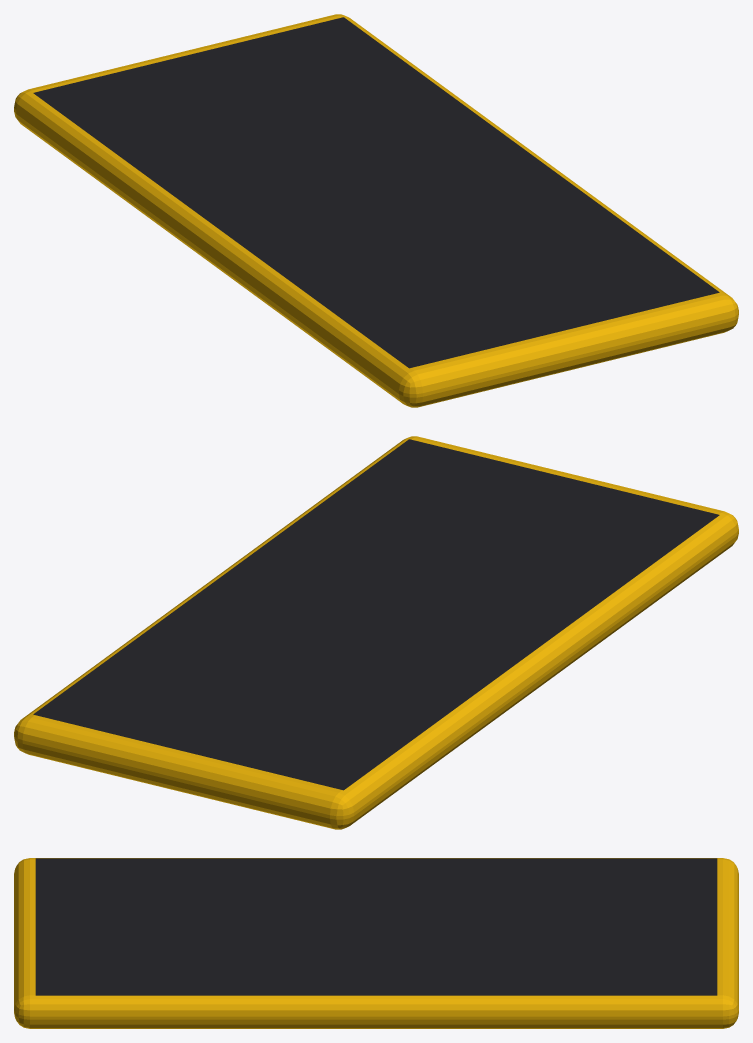
Rendered from Phone_809.glb.
The picture shows the model from 3 angles, top to bottom: view 1: azimuth 30°, elevation 25°; view 2: azimuth 150°, elevation 25°; view 3: azimuth 270°, elevation 25°; orthographic projection. The views are drawn at different scales.
Visible parts, largest first — view 1: Phone_Screen, Phone_Body; view 2: Phone_Screen, Phone_Body; view 3: Phone_Screen, Phone_Body.
Part boxes in pixels (bbox=[...]): Phone_Screen: bbox=[33, 17, 719, 368]; Phone_Body: bbox=[14, 14, 738, 407]; Phone_Screen: bbox=[33, 439, 719, 790]; Phone_Body: bbox=[14, 436, 738, 829]; Phone_Screen: bbox=[35, 858, 717, 995]; Phone_Body: bbox=[14, 858, 738, 1028].
Size of the model in its own units: 0.0747 by 0.0076 by 0.1533.
